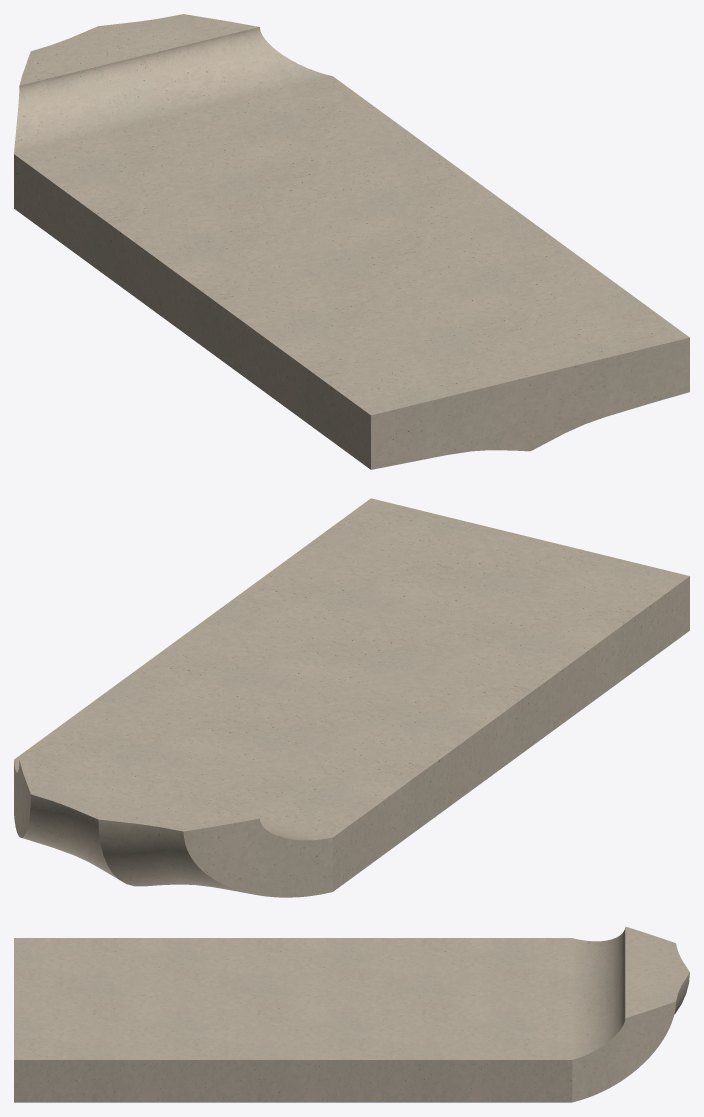
3 renders of one model, top to bottom at view 1: azimuth 30°, elevation 25°; view 2: azimuth 150°, elevation 25°; view 3: azimuth 270°, elevation 25°, orthographic. The views are drawn at different scales.
Visible parts, largest first — view 1: F3.SLDPRT; view 2: F3.SLDPRT; view 3: F3.SLDPRT.
Boxes of the visible parts, left/top/right/bottom form: F3.SLDPRT: left=14, top=14, right=689, bottom=469; F3.SLDPRT: left=14, top=498, right=689, bottom=897; F3.SLDPRT: left=14, top=926, right=689, bottom=1102.
Bounding box in the file's own units: 0.245 × 0.08 × 0.575.
Materials: 1 (1 with a texture image).
